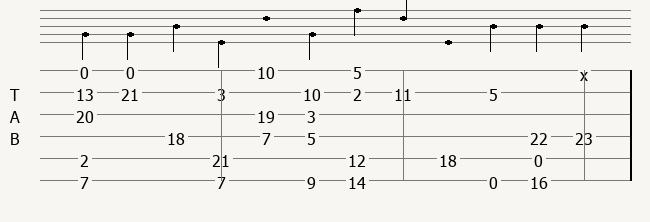0: (80, 62, 93, 78), (126, 62, 139, 78), (489, 172, 502, 188), (534, 150, 547, 166)
10: (257, 62, 279, 78), (303, 84, 325, 100)
11: (394, 84, 416, 100)
12: (348, 150, 370, 166)
13: (76, 84, 98, 100)
14: (348, 172, 370, 188)
16: (530, 172, 552, 188)
18: (167, 128, 189, 144), (439, 150, 461, 166)
19: (257, 106, 279, 122)
2: (80, 150, 93, 166), (353, 84, 366, 100)
20: (76, 106, 98, 122)
21: (121, 84, 143, 100), (212, 150, 234, 166)
22: (530, 128, 552, 144)
23: (575, 128, 597, 144)
3: (217, 84, 230, 100), (307, 106, 320, 122)
5: (307, 128, 320, 144), (353, 62, 366, 78), (489, 84, 502, 100)
7: (80, 172, 93, 188), (217, 172, 230, 188), (262, 128, 275, 144)
9: (307, 172, 320, 188)
x: (580, 64, 592, 77)
